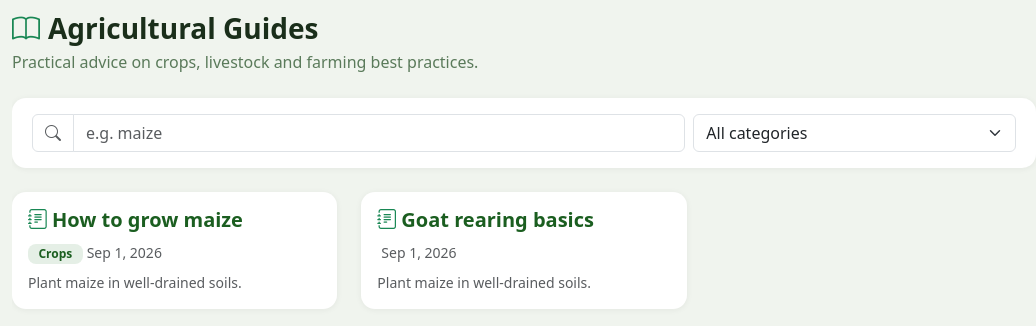
Test case: GuidesListPage › filters guides by category
The width and height of the screenshot is (1036, 326).
expect the heading "How to grow maize" is shown: met, box x1=28 y1=206 x2=243 y2=233
expect the heading "Goat rearing basics" is shown: met, box x1=377 y1=206 x2=594 y2=233
Select "Crops" in the dropdown at [855, 133], box x1=693 y1=114 x2=1016 y2=152
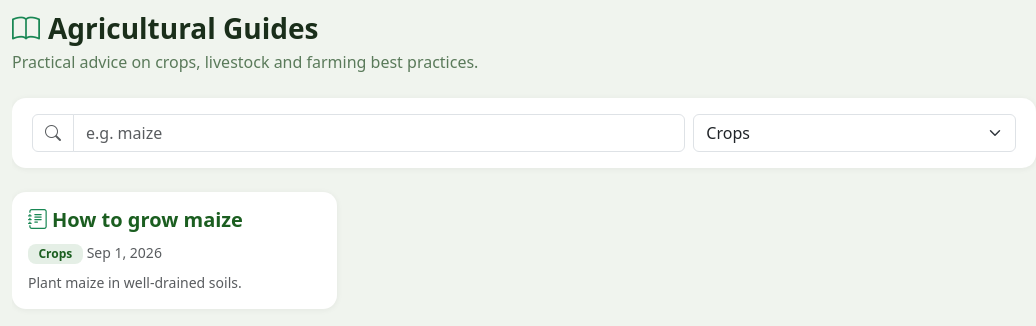
expect the link "Goat rearing basics" is gone: met
